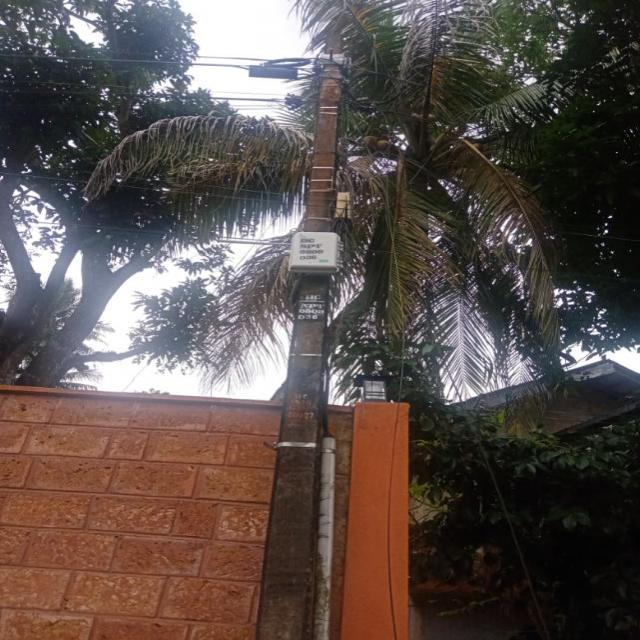light_pole: (253, 43, 354, 640)
